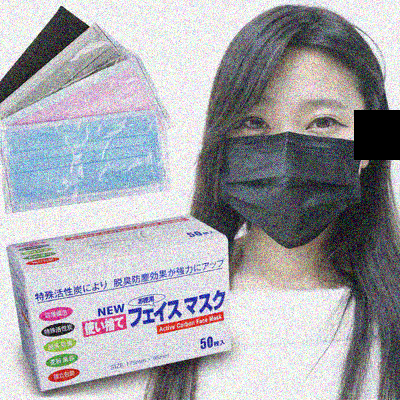with_mask: (216, 92, 372, 251)
